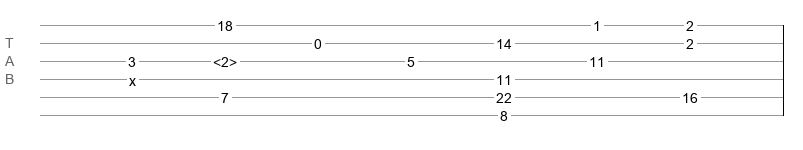0: (314, 36, 322, 46)
1: (593, 18, 601, 28)
11: (496, 72, 512, 82), (589, 54, 605, 64)
14: (496, 36, 512, 46)
16: (682, 90, 698, 100)
18: (217, 18, 233, 28)
2: (686, 18, 694, 28), (686, 36, 694, 46)
22: (496, 90, 512, 100)
3: (128, 54, 136, 64)
5: (407, 54, 415, 64)
7: (221, 90, 229, 100)
8: (500, 108, 508, 118)
harmonic: (213, 54, 237, 64)
x: (129, 73, 136, 81)
